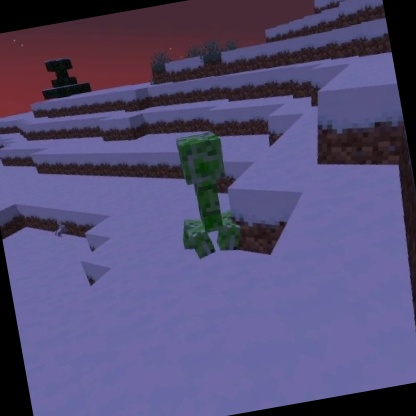creeper: (160, 125, 249, 265)
